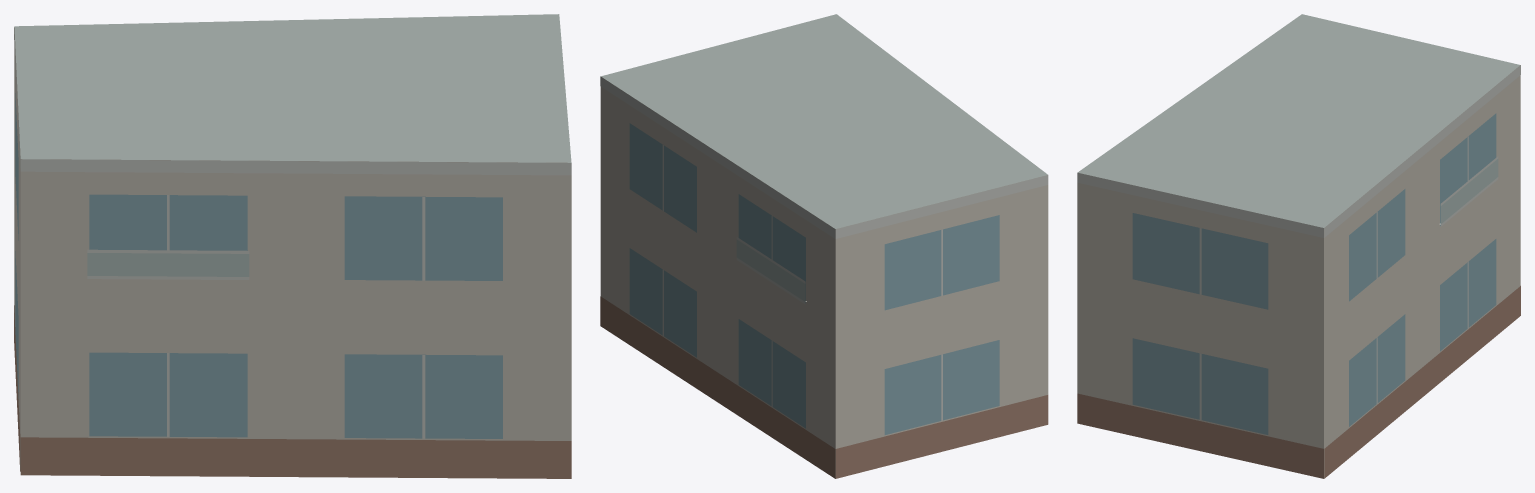
File: survey-upis-32804111.glb
3 renders of one model, left to right at view 1: azimuth 30°, elevation 25°; view 2: azimuth 150°, elevation 25°; view 3: azimuth 270°, elevation 25°, orthographic. The views are drawn at different scales.
Visible parts, largest first — view 1: survey-upis-32804111.tmp; view 2: survey-upis-32804111.tmp; view 3: survey-upis-32804111.tmp.
Part boxes in pixels (x1,y1,x2,y2): survey-upis-32804111.tmp: [14, 14, 571, 478]; survey-upis-32804111.tmp: [600, 14, 1048, 478]; survey-upis-32804111.tmp: [1077, 14, 1520, 478].
Bounding box in the file's own units: 11.17 × 6.1 × 9.78.
